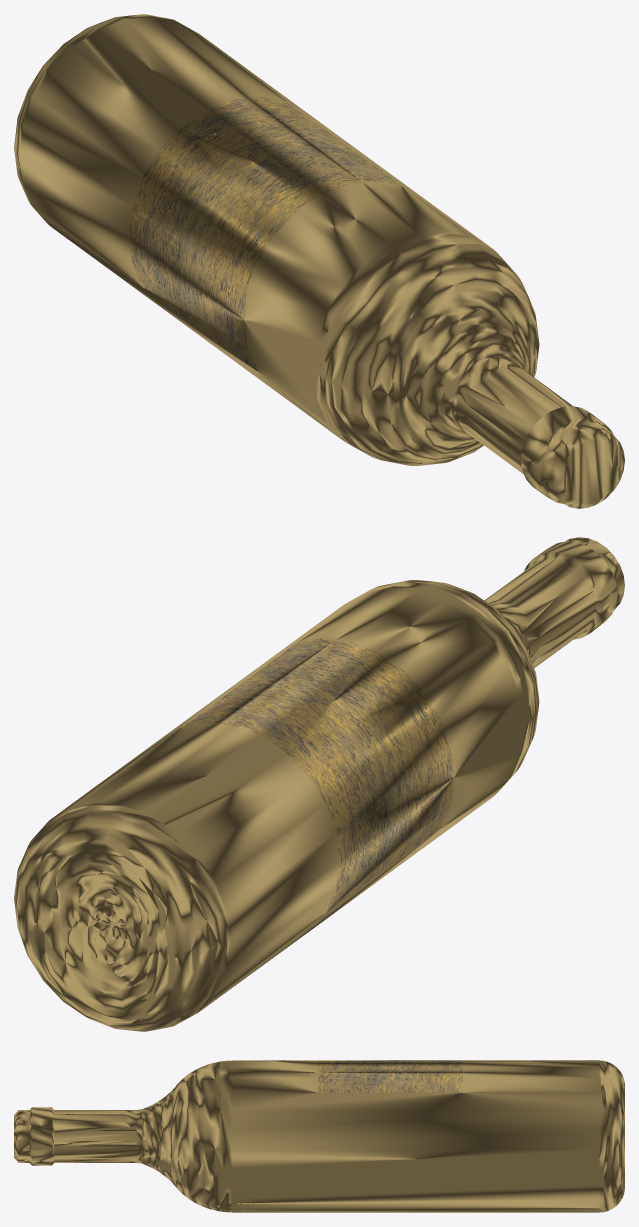
The model's file is model_align.obj.
3 renders of one model, top to bottom at view 1: azimuth 30°, elevation 25°; view 2: azimuth 150°, elevation 25°; view 3: azimuth 270°, elevation 25°, orthographic. The views are drawn at different scales.
Size of the model in its own units: 0.0674 by 0.0674 by 0.2699.
